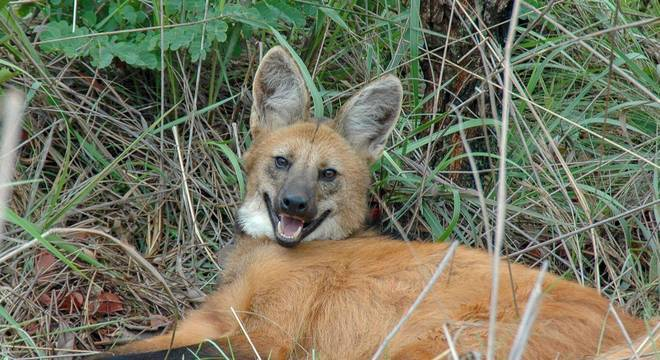LoboGuara: (132, 45, 635, 355)
